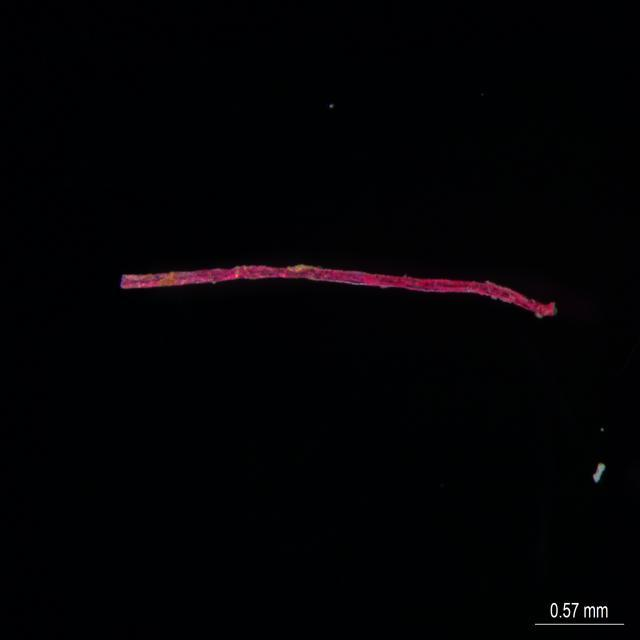fibers: (119, 251, 559, 320)
